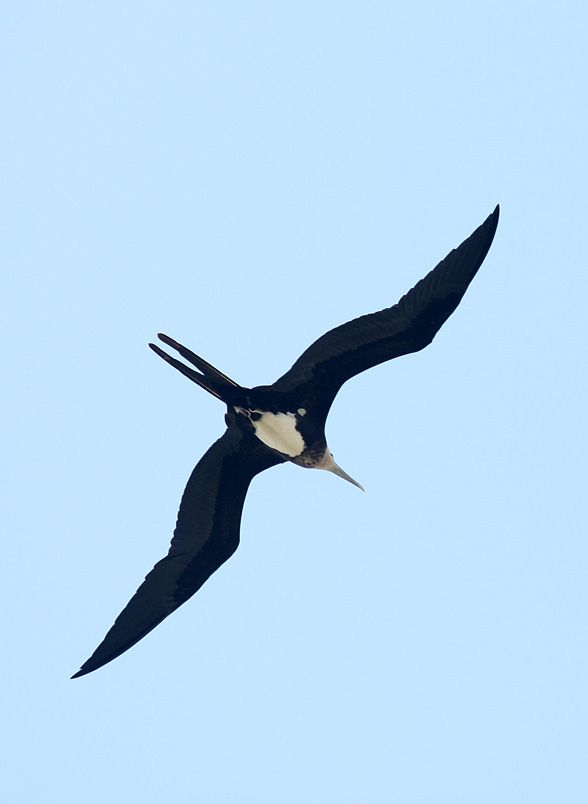bird: (64, 203, 505, 681)
